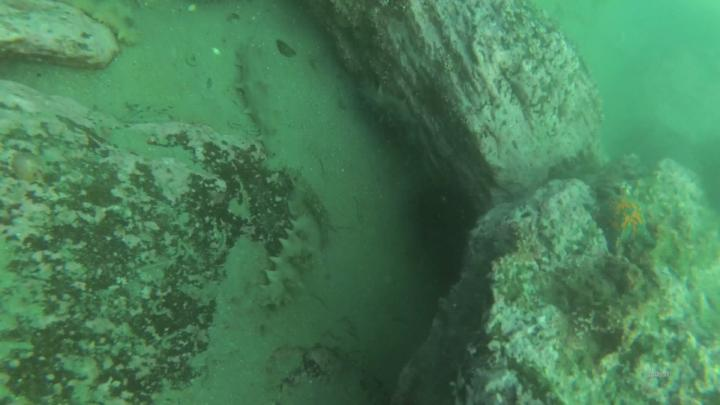holothurian: (260, 205, 323, 303), (237, 42, 283, 136), (72, 2, 142, 49)
starfish: (595, 184, 659, 253)
